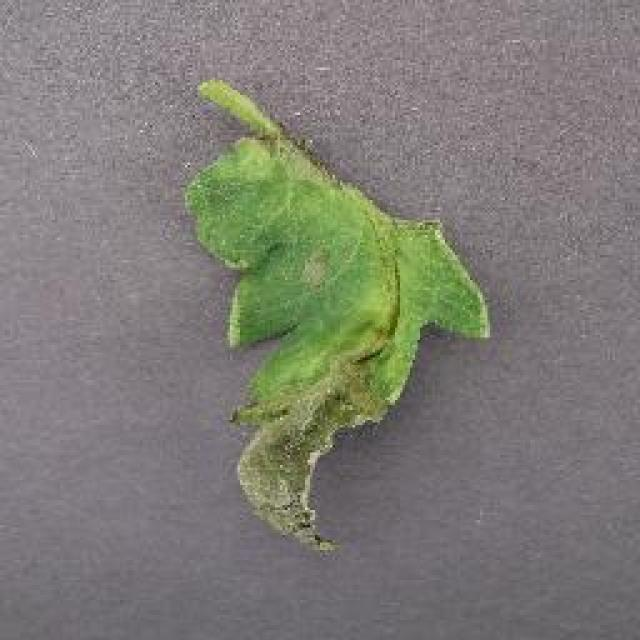Tomato Late Blight: (230, 143, 390, 595)
